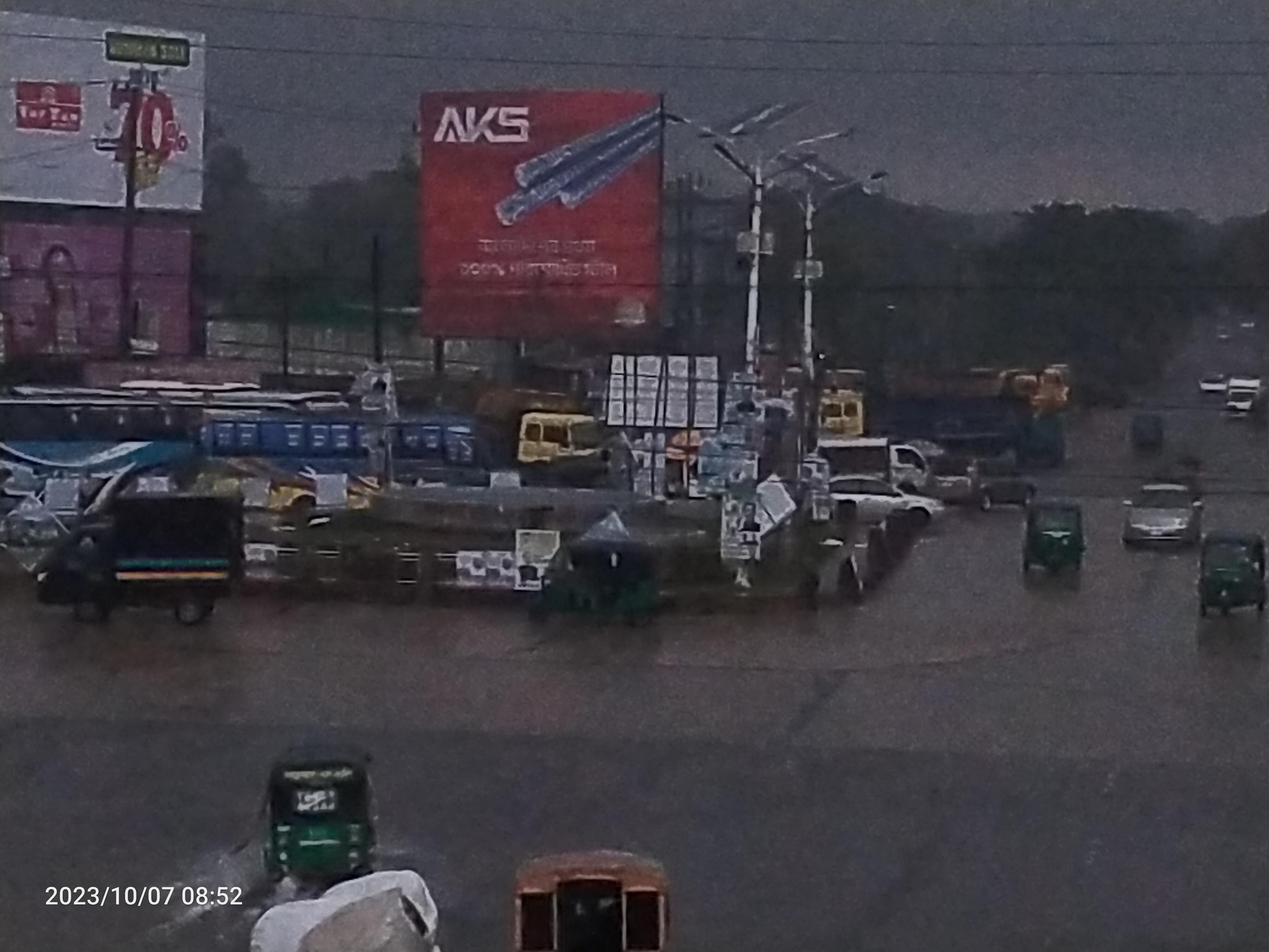Bus: (183, 396, 503, 535), (0, 373, 202, 486)
Car: (10, 465, 267, 644), (480, 819, 689, 952), (799, 467, 961, 539), (1109, 462, 1218, 557), (1210, 361, 1269, 429), (1186, 358, 1230, 403)
Truck: (781, 331, 1074, 465), (491, 344, 621, 493)
